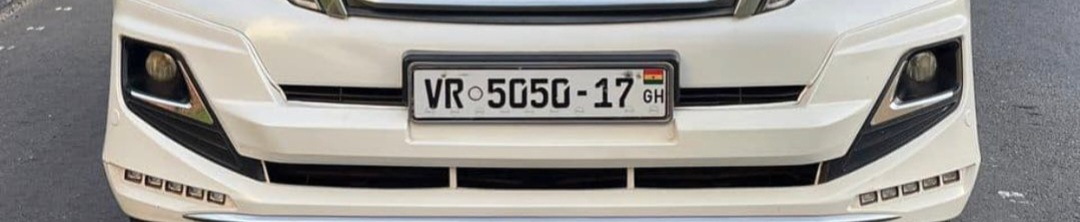number_ plates: (407, 60, 675, 125)
